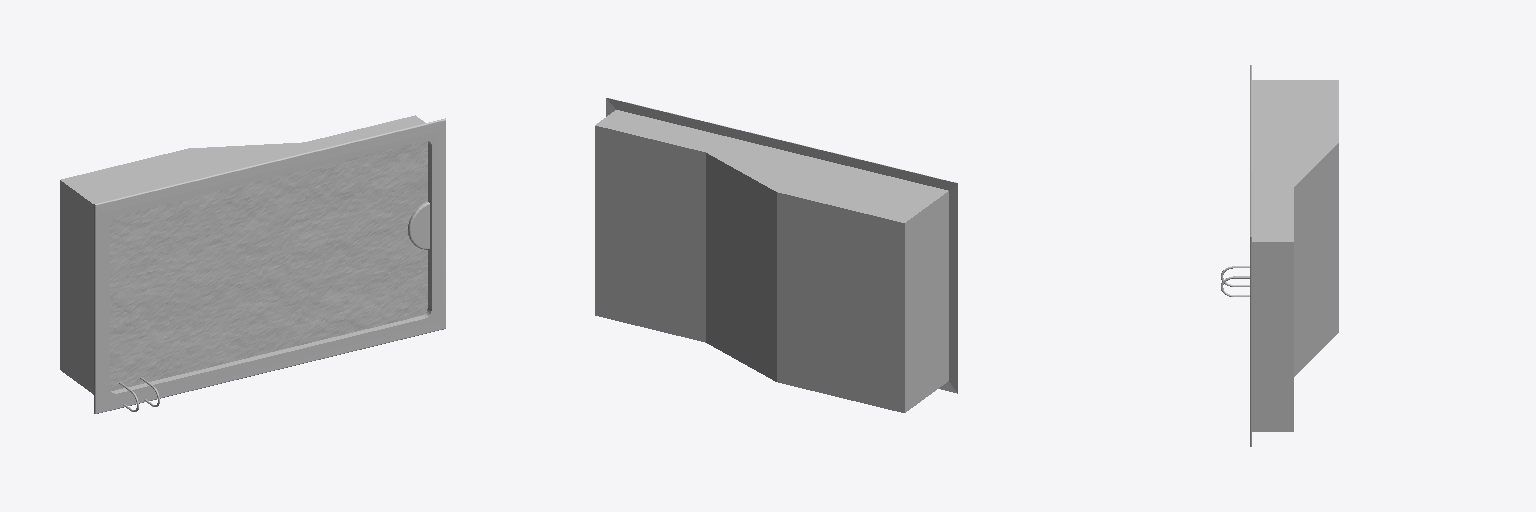
The model's file is uploads_files_1833002_Swimming+Pool.obj.
3 views of the same model, side by side, from view 1: azimuth 30°, elevation 25°; view 2: azimuth 150°, elevation 25°; view 3: azimuth 270°, elevation 25° (orthographic).
Visible parts, largest first — view 1: SWIMMING_POOL_WATER, SWIMMING_POOL; view 2: SWIMMING_POOL; view 3: SWIMMING_POOL.
Boxes of the visible parts, x1=… form: SWIMMING_POOL_WATER: x1=110, y1=141, x2=427, y2=390; SWIMMING_POOL: x1=60, y1=115, x2=445, y2=413; SWIMMING_POOL: x1=595, y1=98, x2=957, y2=412; SWIMMING_POOL: x1=1250, y1=65, x2=1338, y2=446.
Size of the model in its own units: 92.66 by 52.93 by 27.14.